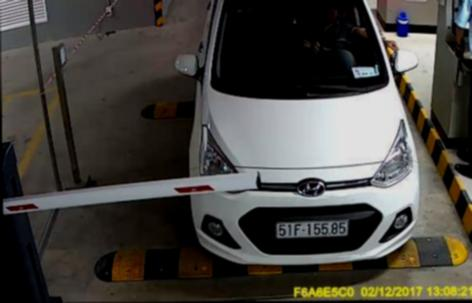License_Plate: (274, 216, 353, 238)
